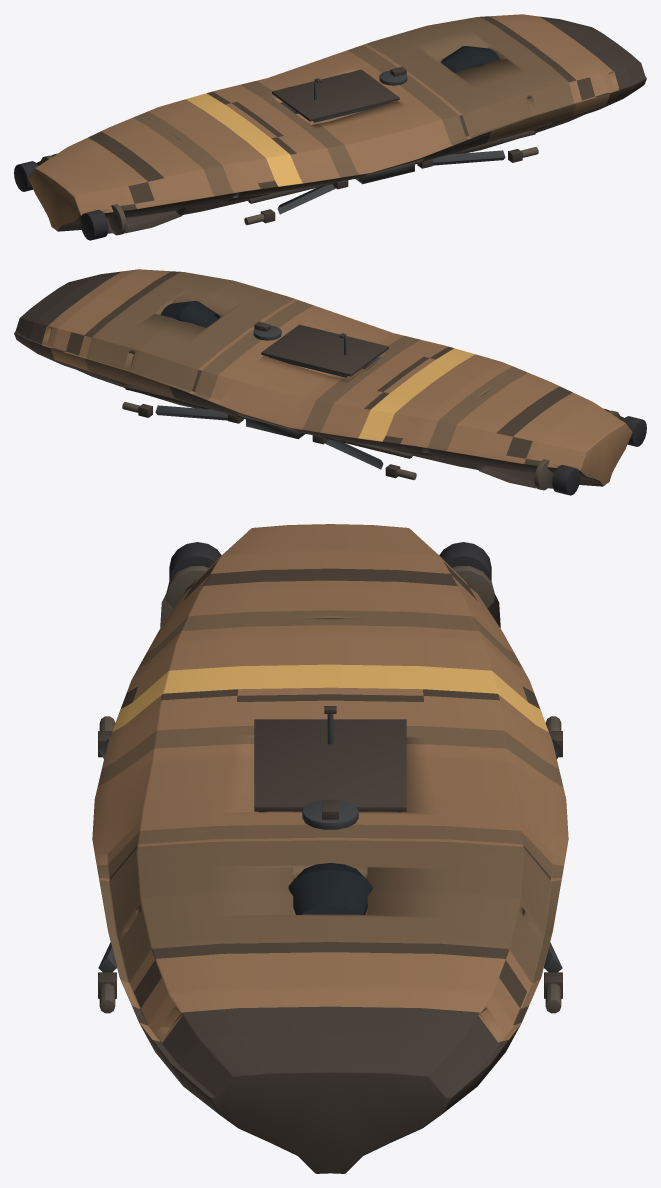
File: ironback_c1_lod1.glb
3 renders of one model, top to bottom at view 1: azimuth 30°, elevation 25°; view 2: azimuth 150°, elevation 25°; view 3: azimuth 270°, elevation 25°, orthographic. The views are drawn at different scales.
Visible parts, largest first — view 1: LOD0_Hull, LOD0_ArmHead_Aft_P, LOD0_AftWalk, LOD0_Canopy, LOD0_Cutter_Aft_P, LOD0_Bell_Port, LOD0_Bell_Starboard; view 2: LOD0_Hull, LOD0_ArmHead_Aft_P, LOD0_AftWalk, LOD0_Canopy, LOD0_Cutter_Aft_P, LOD0_Bell_Starboard, LOD0_Bell_Port; view 3: LOD0_Hull, LOD0_ArmHead_Aft_P, LOD0_Canopy, LOD0_Cutter_Aft_P, LOD0_AftWalk, LOD0_Bell_Port, LOD0_Bell_Starboard.
Boxes of the visible parts, box(x1,y1,x2,y2) form: LOD0_Hull: box(28, 14, 646, 231); LOD0_ArmHead_Aft_P: box(36, 66, 522, 233); LOD0_AftWalk: box(277, 70, 505, 214); LOD0_Canopy: box(441, 46, 500, 72); LOD0_Cutter_Aft_P: box(40, 147, 538, 235); LOD0_Bell_Port: box(80, 210, 108, 240); LOD0_Bell_Starboard: box(14, 161, 37, 191); LOD0_Hull: box(14, 269, 632, 486); LOD0_ArmHead_Aft_P: box(138, 321, 624, 488); LOD0_AftWalk: box(155, 325, 383, 469); LOD0_Canopy: box(160, 301, 219, 327); LOD0_Cutter_Aft_P: box(122, 402, 620, 490); LOD0_Bell_Starboard: box(552, 465, 580, 495); LOD0_Bell_Port: box(623, 416, 646, 446); LOD0_Hull: box(92, 524, 568, 1173); LOD0_ArmHead_Aft_P: box(98, 566, 562, 998); LOD0_Canopy: box(288, 863, 372, 914); LOD0_Cutter_Aft_P: box(99, 566, 561, 1013); LOD0_AftWalk: box(98, 714, 562, 972); LOD0_Bell_Port: box(169, 542, 221, 580); LOD0_Bell_Starboard: box(439, 542, 491, 580).
Size of what is drawn, in the model's own units: 16.61 by 2.93 by 6.09.
